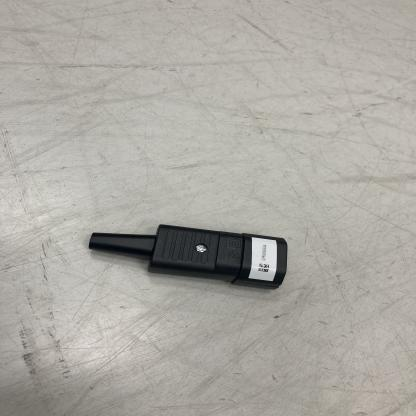SP0000004: (42, 177, 312, 322)
